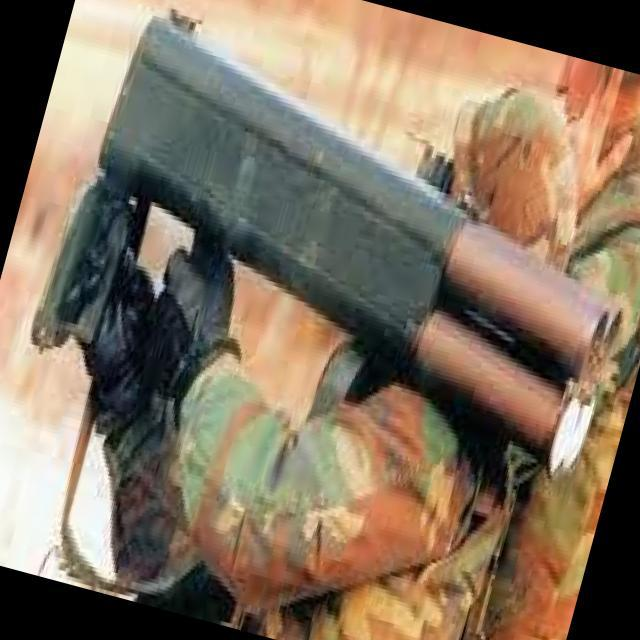rocket: (49, 0, 640, 498)
